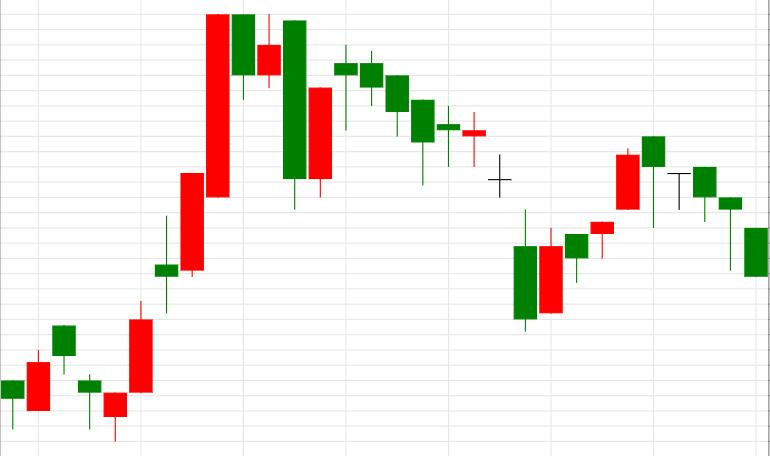hanging_man_fall: (539, 137, 665, 313)
